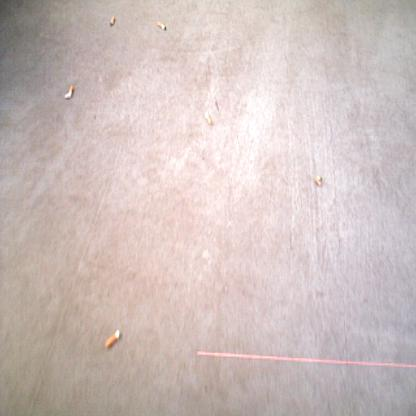dirty: (104, 328, 120, 350), (63, 85, 74, 100), (203, 112, 214, 126), (156, 20, 166, 31), (313, 175, 322, 186), (109, 15, 116, 27)
mark: (288, 231, 293, 252), (214, 98, 220, 113), (92, 113, 98, 121)
